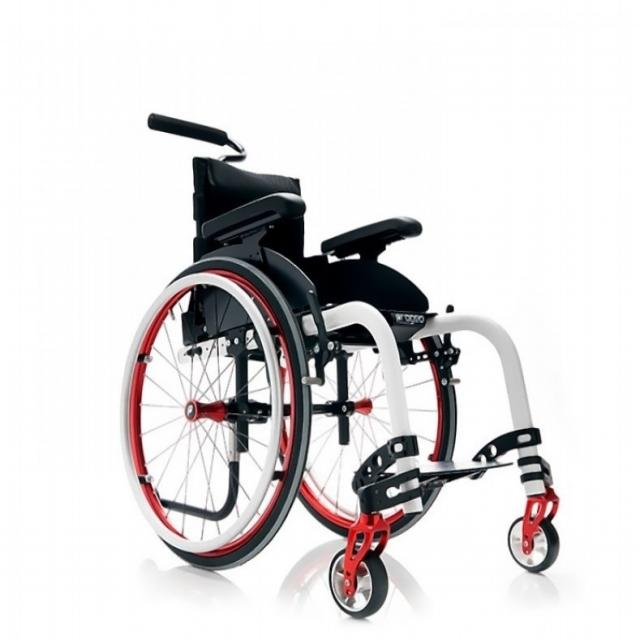wheelchair: (122, 106, 591, 621)
